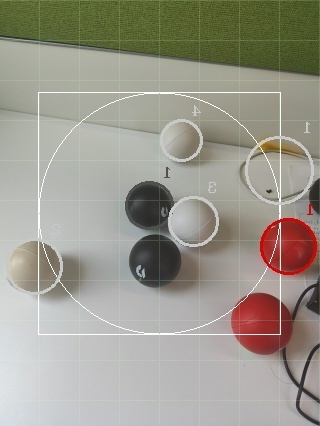Pelota blanca: (239, 134, 318, 206), (5, 238, 65, 294), (167, 193, 220, 248), (159, 118, 207, 163)
Pelota negra: (127, 233, 183, 288), (125, 180, 175, 230)
Pelota roja: (231, 292, 294, 355), (258, 217, 320, 275)
